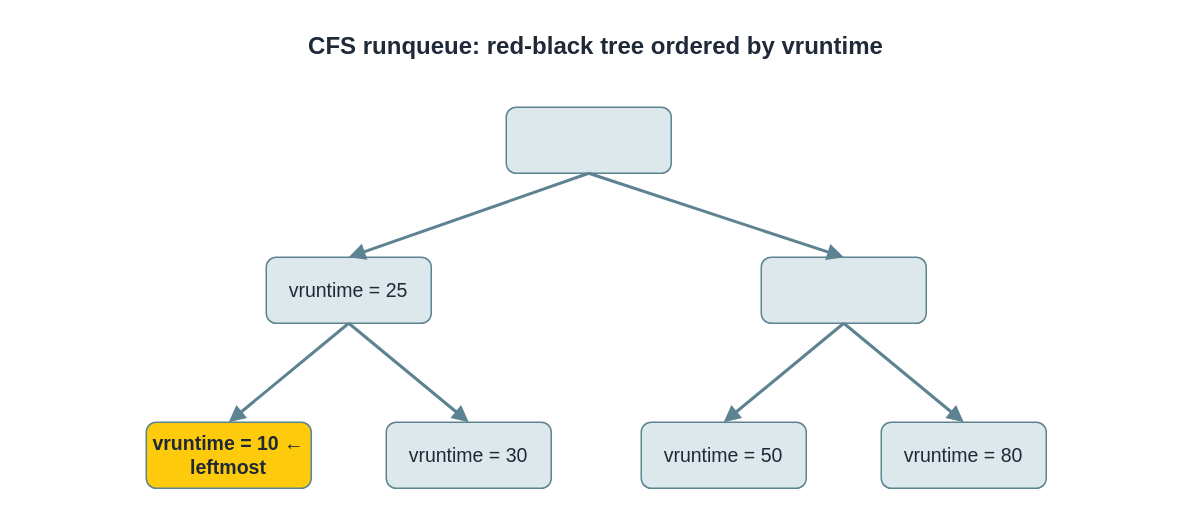
The diagram is 1191 pixels wide and 515 high, and some of its shapes have lost their labels. Here are the shapes that lost their labels. From the top down, the centre of each, then its label:
At (x=588, y=139): "vruntime = 40".
At (x=843, y=289): "vruntime = 60".
